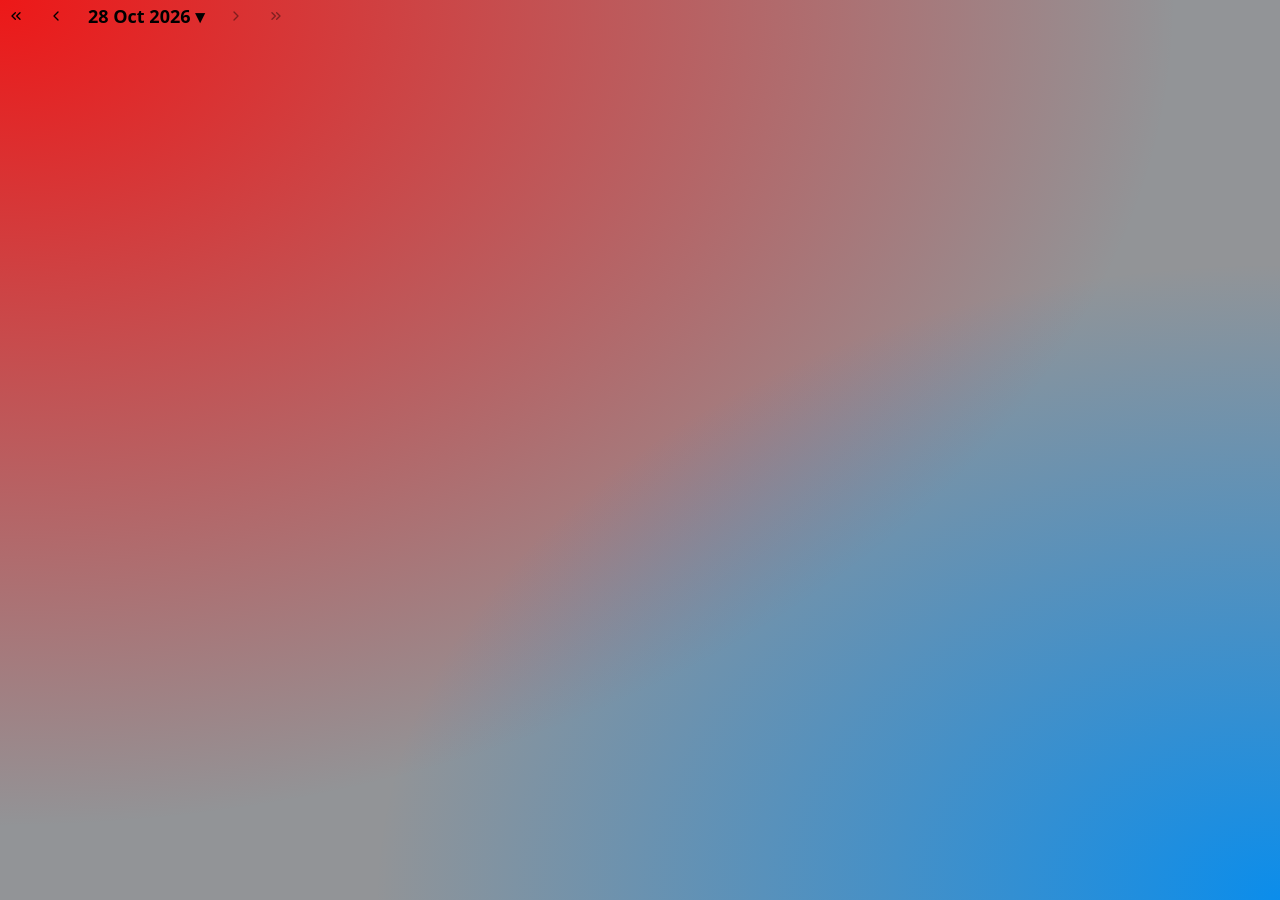
Test case: ExpenseNavigation › picks a day from the popover, closing it afterwards
Click the button with aria-label "Pick a date" at (146, 16), box [80,2,212,30]
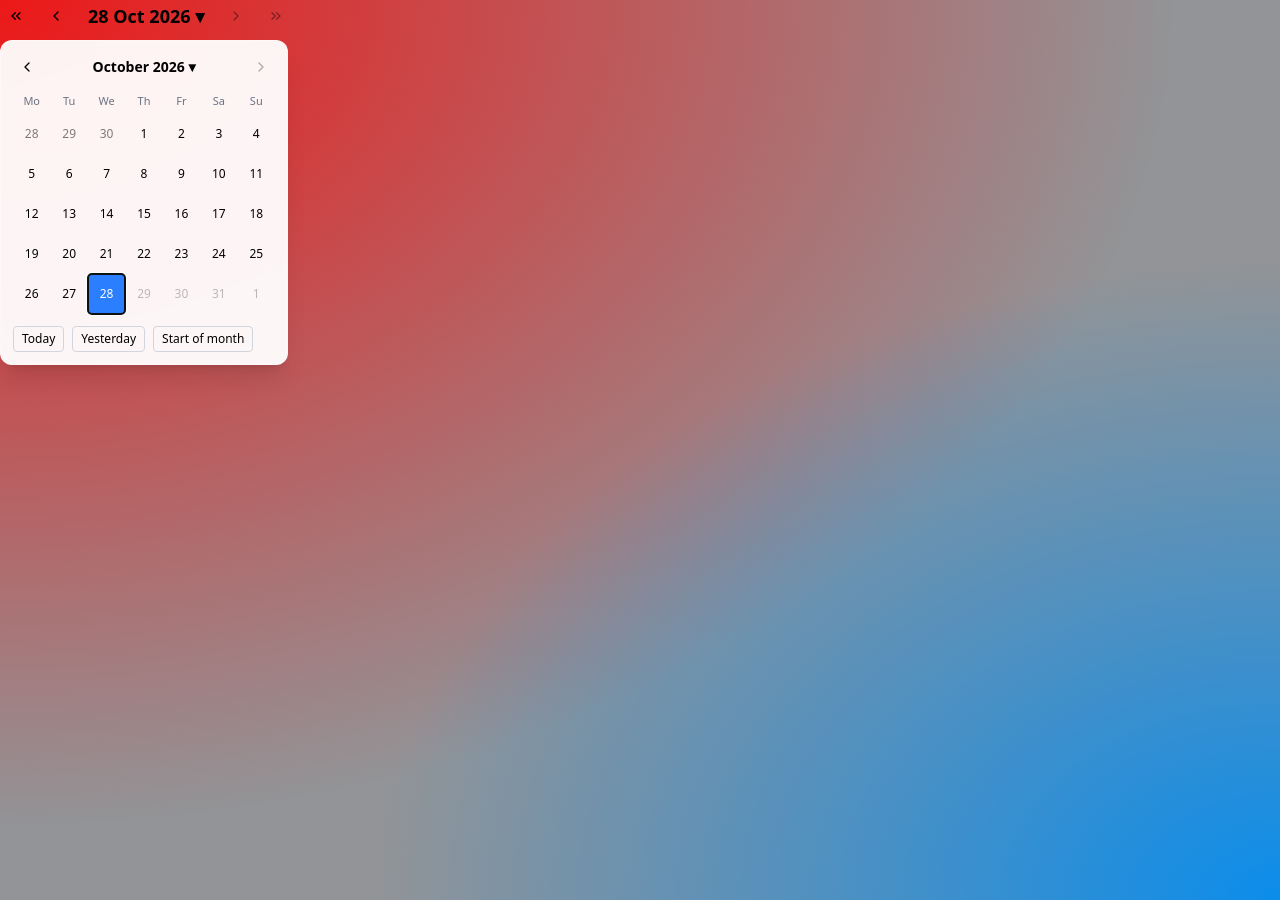
Click the 2nd button named "Previous month" at (27, 67), box [13,53,41,81]
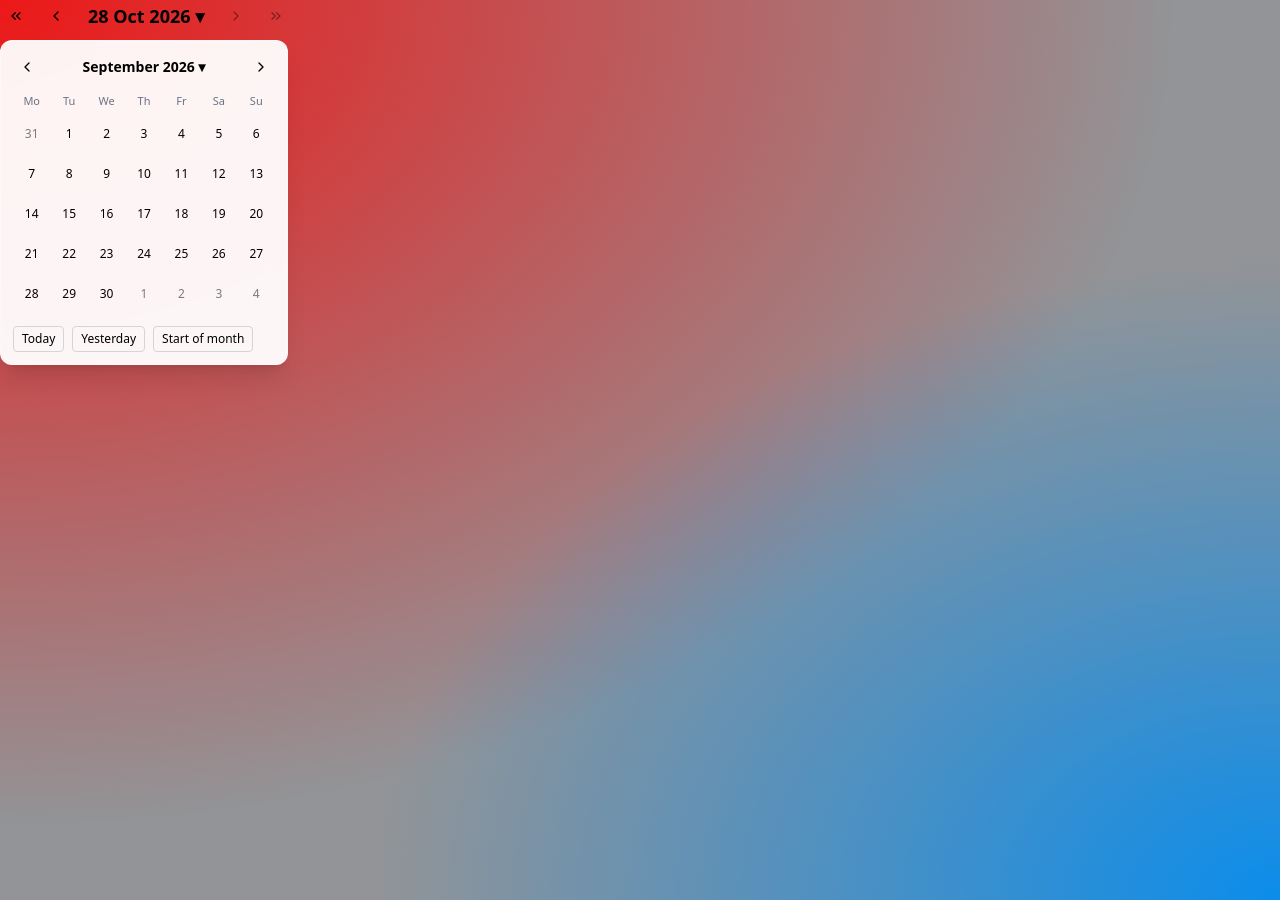
Click the cell "15" at (69, 214), box [50,194,88,234]
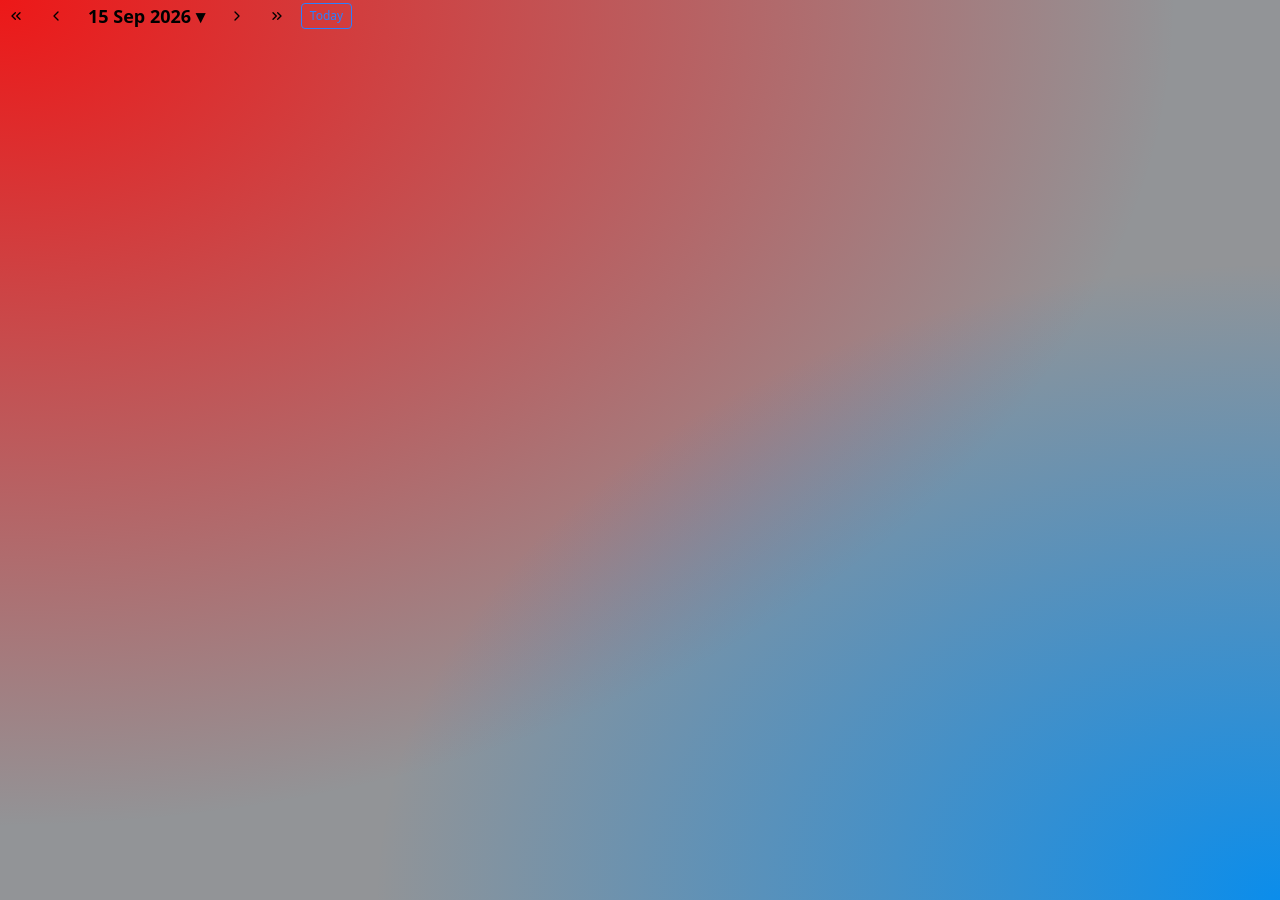
Expected: the dialog is gone
